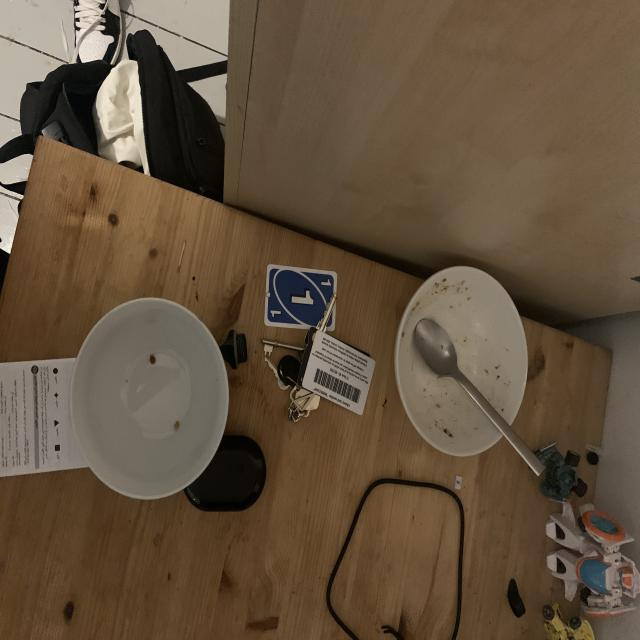lblue-1: (319, 275, 333, 292)
